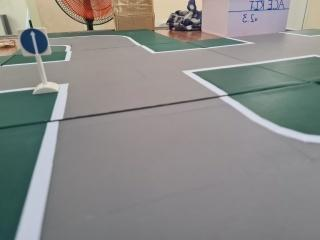straight: (16, 26, 51, 57)
